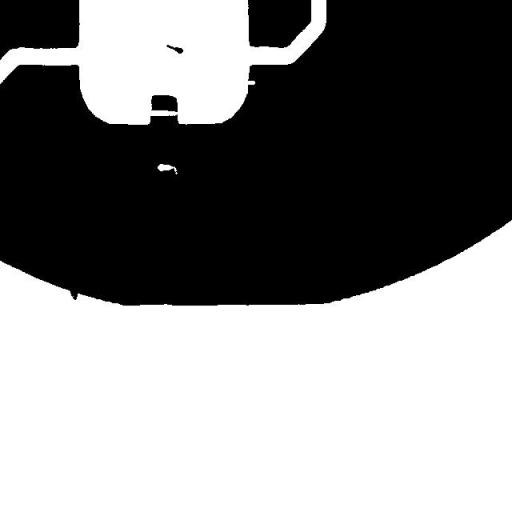copper: (158, 37, 190, 61)
mousebite: (237, 73, 262, 92)
open: (126, 96, 188, 123)
pin-hole: (150, 156, 184, 182)
spur: (62, 278, 85, 308)
